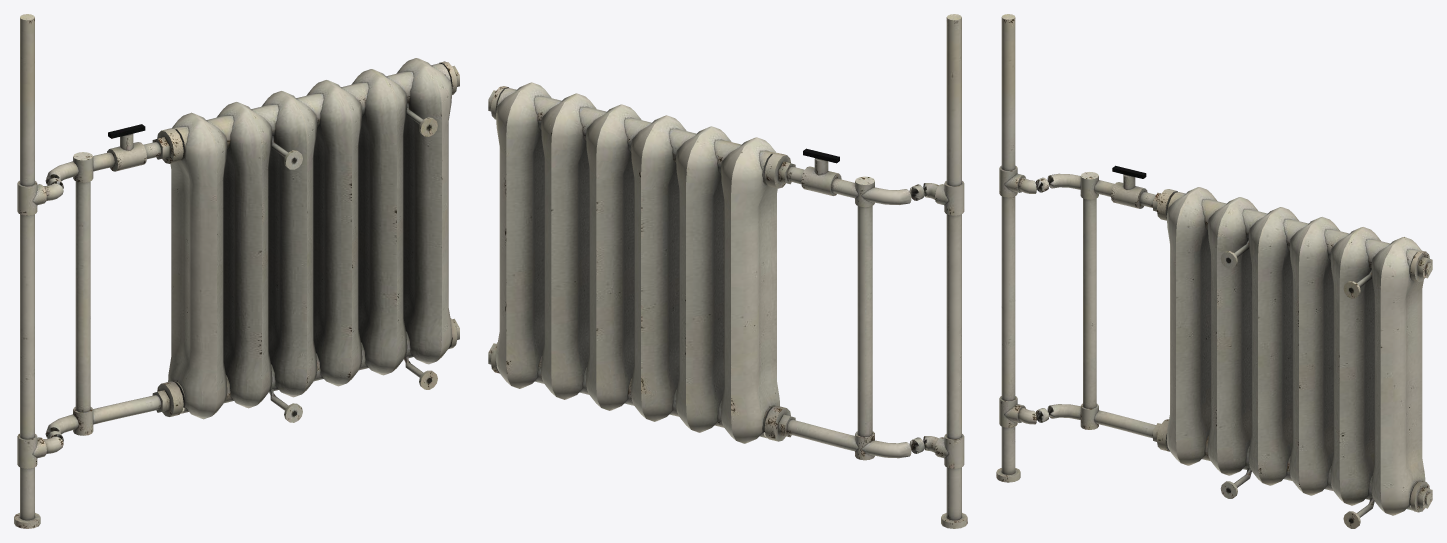
The model's file is rad_6_bypass_right_web.glb.
3 views of the same model, side by side, from view 1: azimuth 30°, elevation 25°; view 2: azimuth 150°, elevation 25°; view 3: azimuth 330°, elevation 25° (orthographic). The views are drawn at different scales.
Visible parts, largest first — view 1: Rad6BypassRight_Body; view 2: Rad6BypassRight_Body; view 3: Rad6BypassRight_Body.
Boxes of the visible parts, x1,y1,x2,y2 form: Rad6BypassRight_Body: (14, 14, 459, 528); Rad6BypassRight_Body: (488, 14, 967, 528); Rad6BypassRight_Body: (996, 14, 1432, 528).
Size of the model in its own units: 0.946 by 1 by 0.175.
1 material, 1 textured.
